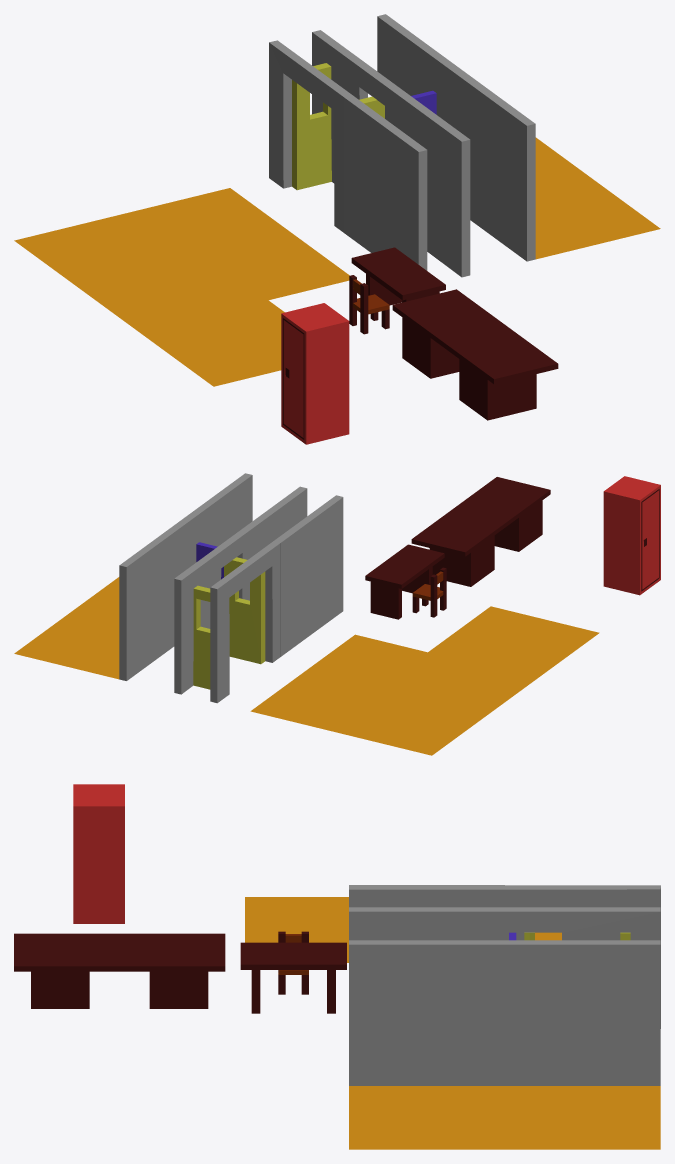
File: Assetfbx 1.fbx
3 renders of one model, top to bottom at view 1: azimuth 30°, elevation 25°; view 2: azimuth 150°, elevation 25°; view 3: azimuth 270°, elevation 25°, orthographic. The views are drawn at different scales.
Parts seen in each view (by area): view 1: pol.014, stena.001, stol.l, doorblue), stena.004, shkavchik, pol, pol.004, door(yellow).005, door(yellow).003, stol.001, styl; view 2: pol.014, stena.001, stol.l, stena.004, pol.004, doorblue), shkavchik, pol, door(yellow).005, stol.001, door(yellow).004, door(yellow).003 (+1 smaller); view 3: stena.001, pol, stol.l, doorblue), shkavchik, pol.004, stol.001, door(yellow).005, stena.004, styl.
Boxes of the visible parts, bbox=[...] form: pol.014: bbox=[14, 188, 349, 331]; stena.001: bbox=[377, 14, 535, 261]; stol.l: bbox=[392, 289, 558, 420]; doorblue): bbox=[312, 30, 470, 277]; stena.004: bbox=[344, 95, 427, 270]; shkavchik: bbox=[281, 303, 349, 444]; pol: bbox=[535, 137, 660, 259]; pol.004: bbox=[139, 300, 284, 386]; door(yellow).005: bbox=[269, 40, 352, 232]; door(yellow).003: bbox=[292, 63, 331, 190]; stol.001: bbox=[351, 247, 445, 305]; styl: bbox=[349, 275, 389, 334]; pol.014: bbox=[250, 634, 536, 755]; stena.001: bbox=[119, 473, 252, 680]; stol.l: bbox=[411, 477, 550, 586]; stena.004: bbox=[273, 495, 343, 656]; pol.004: bbox=[428, 606, 599, 678]; doorblue): bbox=[174, 486, 307, 694]; shkavchik: bbox=[603, 476, 660, 595]; pol: bbox=[14, 577, 119, 679]; door(yellow).005: bbox=[210, 541, 280, 703]; stol.001: bbox=[365, 544, 444, 619]; door(yellow).004: bbox=[224, 557, 265, 664]; door(yellow).003: bbox=[193, 585, 210, 689]; stena.001: bbox=[349, 940, 660, 1085]; pol: bbox=[349, 1086, 660, 1149]; stol.l: bbox=[14, 933, 225, 1008]; doorblue): bbox=[349, 907, 660, 940]; shkavchik: bbox=[73, 784, 124, 923]; pol.004: bbox=[245, 897, 348, 962]; stol.001: bbox=[240, 942, 346, 1013]; door(yellow).005: bbox=[505, 885, 660, 1028]; stena.004: bbox=[349, 885, 504, 907]; styl: bbox=[278, 931, 308, 994].
Bounding box in the file's own units: 2300 × 602 × 2491.
